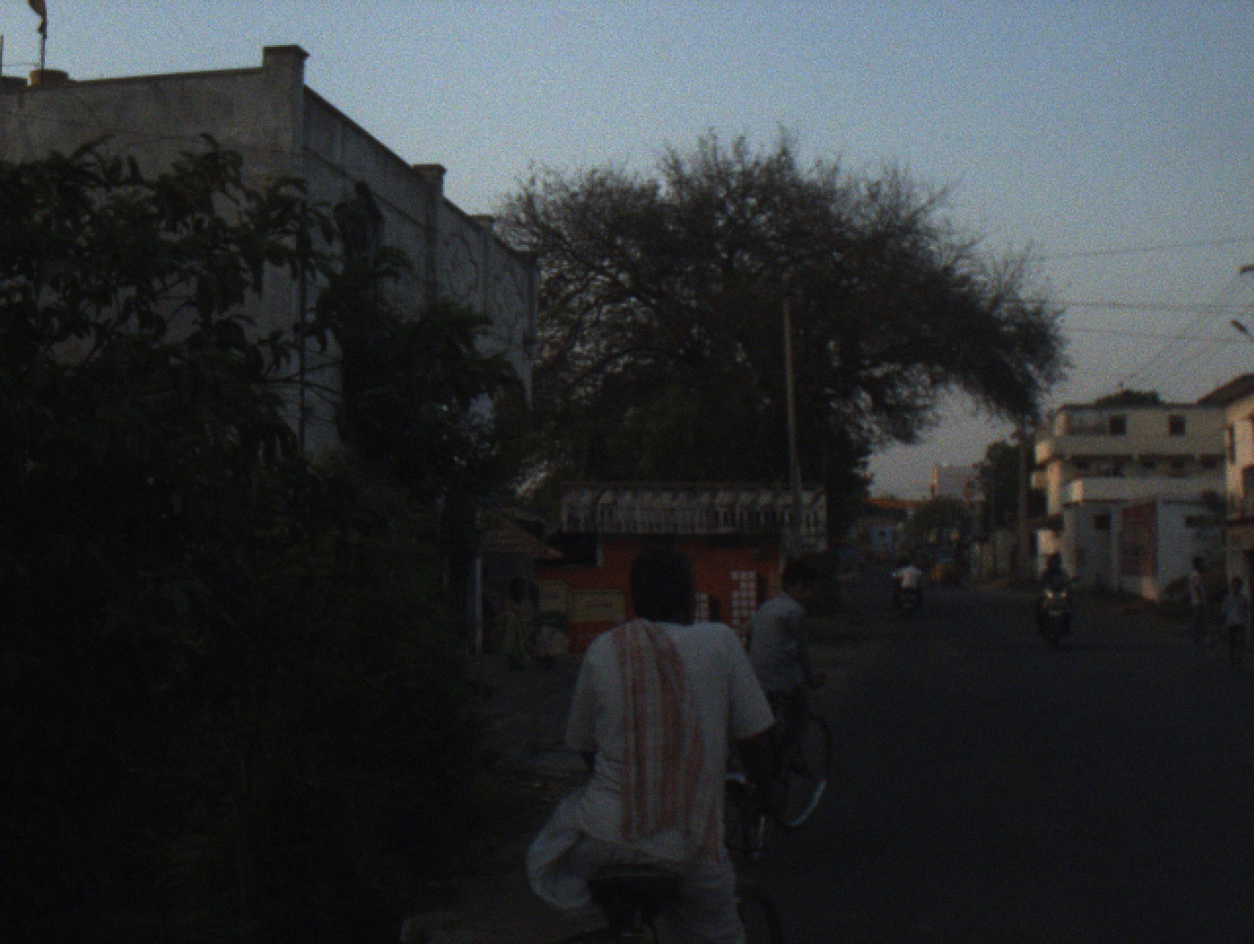autorickshaw: (930, 547, 962, 587)
bicycle: (572, 728, 787, 942), (726, 652, 839, 869)
motorcycle: (1027, 567, 1084, 660), (896, 580, 916, 613)
person: (1220, 570, 1250, 665), (506, 574, 544, 647), (1187, 550, 1211, 643), (479, 570, 506, 645)
rider: (529, 539, 797, 944), (728, 556, 836, 817), (1036, 554, 1083, 637), (894, 559, 923, 600)
